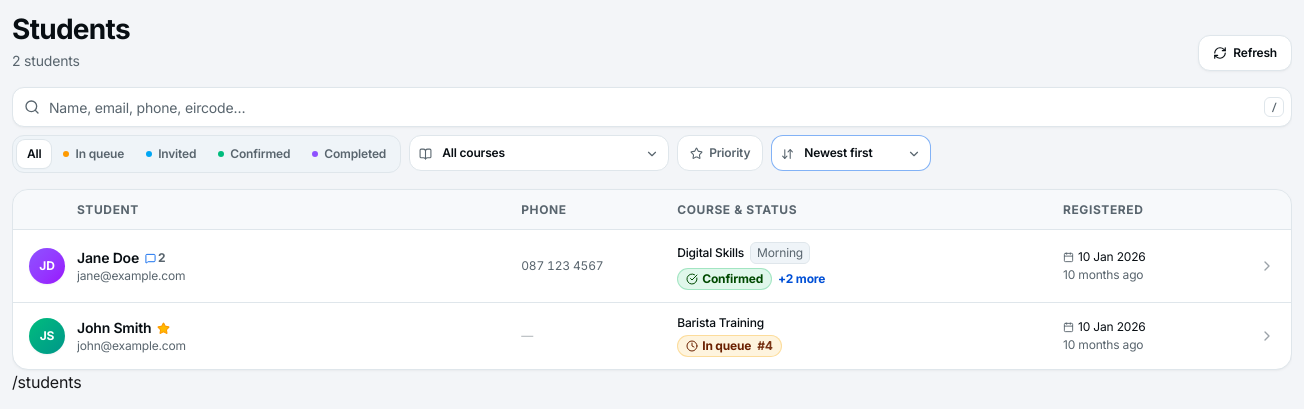
Test case: ViewerStudentsDirectory › opens the student drawer via ?student= on row click and Enter
Step 1. Click the element with test id "student-row" → (47, 336), box [13,303,1291,369]
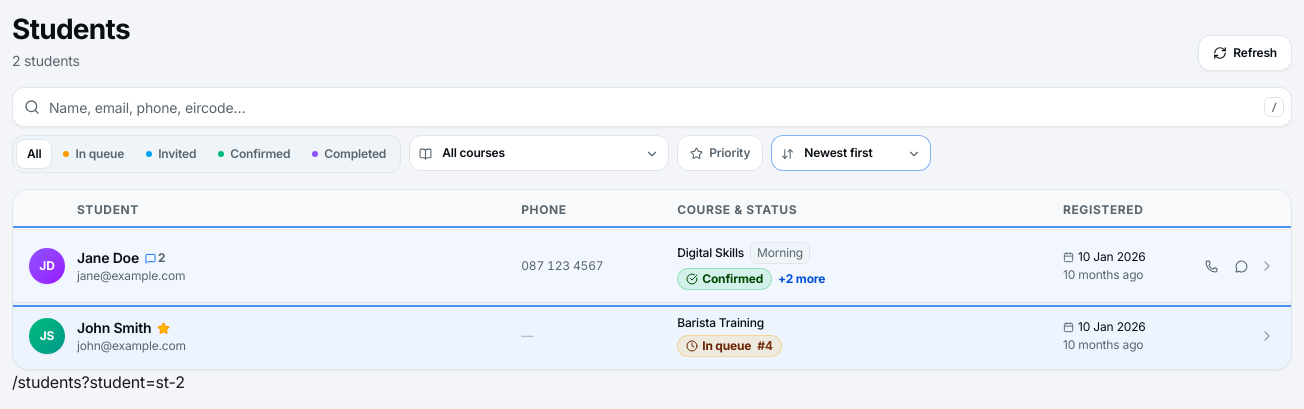
expect the text with test id "location" reads "/students?student=st-2": met, box [12,372,185,392]
Step 2. Press Enter in the element with test id "student-row", box [13,230,1291,303]
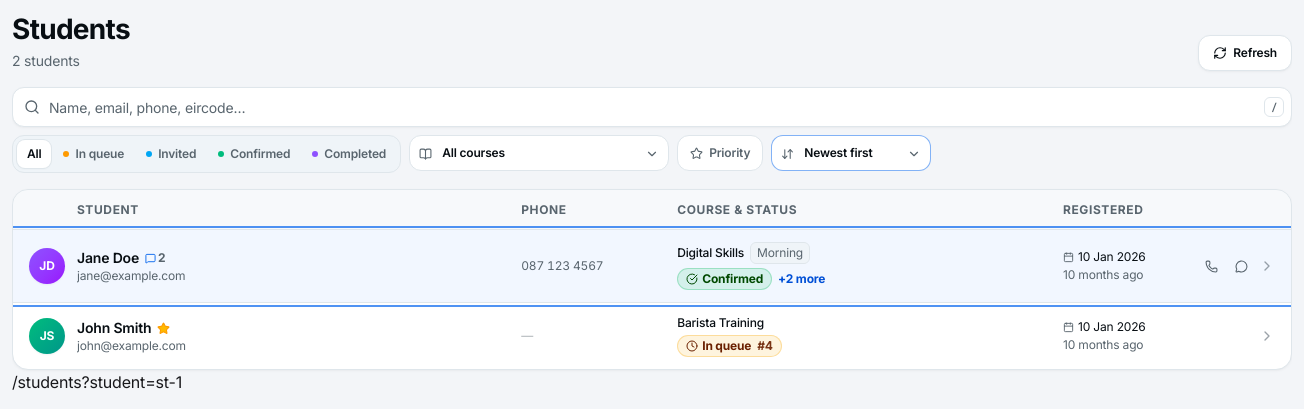
expect the text with test id "location" reads "/students?student=st-1": met, box [12,372,182,392]
